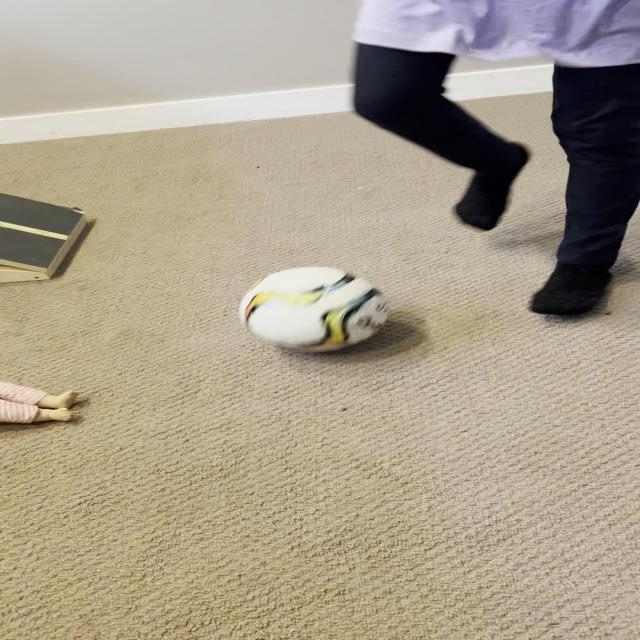Soccer Ball: (240, 266, 391, 351)
